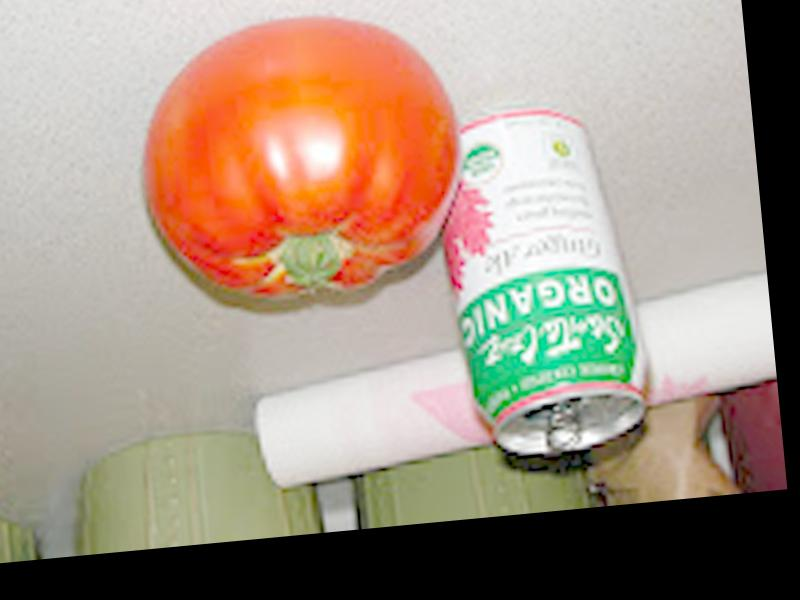Tomato: (133, 6, 469, 306)
